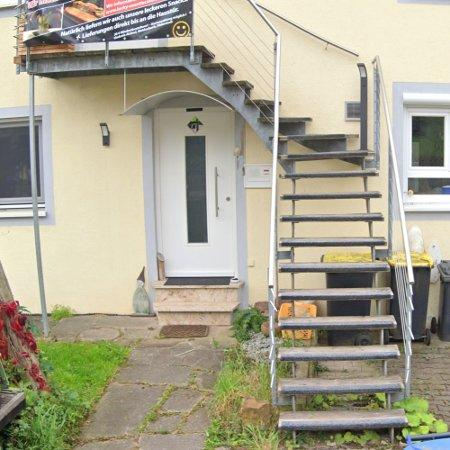stairs: (275, 118, 409, 432)
